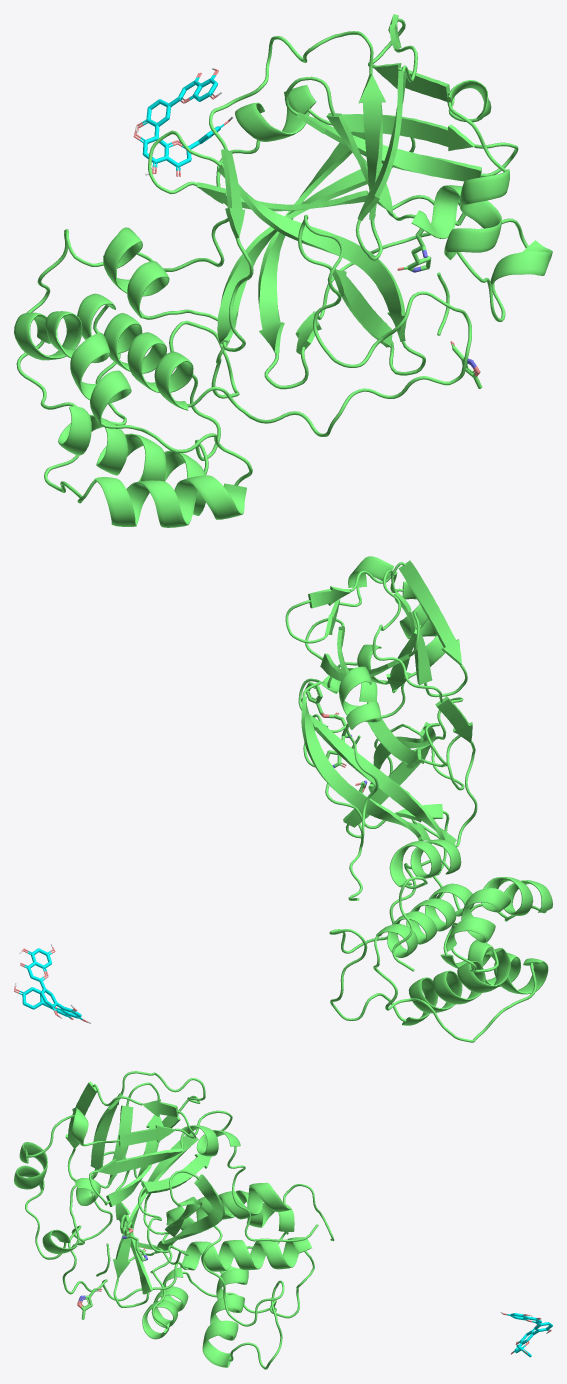
The model's file is eynxbkc37sccd60r.gltf.
3 renders of one model, top to bottom at view 1: azimuth 30°, elevation 25°; view 2: azimuth 150°, elevation 25°; view 3: azimuth 270°, elevation 25°, orthographic. The views are drawn at different scales.
Parts seen in each view (by area): view 1: node-geom69, node-geom70, node-geom71; view 2: node-geom69, node-geom70, node-geom71; view 3: node-geom69, node-geom70, node-geom71.
Part boxes in pixels (<box>): node-geom69: <box>136,14,552,389</box>; node-geom70: <box>14,214,471,527</box>; node-geom71: <box>26,227,449,335</box>; node-geom69: <box>285,556,477,900</box>; node-geom70: <box>329,697,552,1042</box>; node-geom71: <box>351,735,457,971</box>; node-geom69: <box>14,1071,318,1278</box>; node-geom70: <box>62,1151,314,1369</box>; node-geom71: <box>96,1182,334,1276</box>.
Size of the model in its own units: 50.83 by 60 by 89.78.
